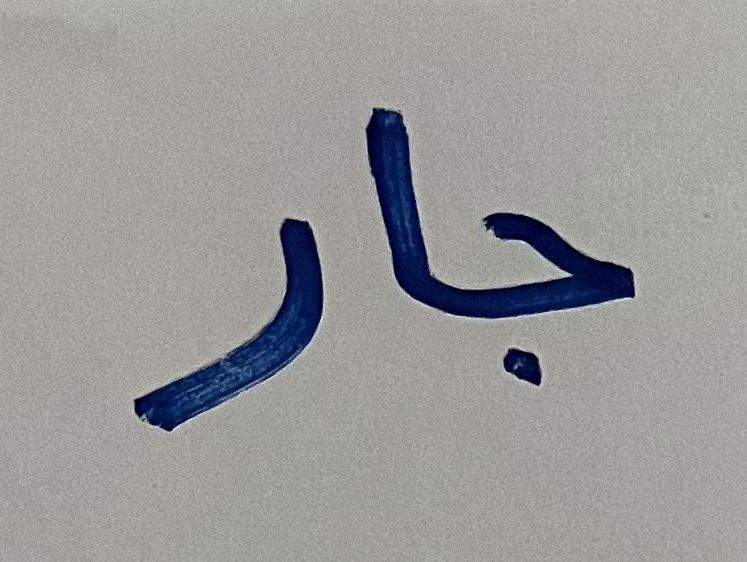alef: (344, 74, 440, 354)
jeem: (445, 170, 652, 407)
reh: (101, 187, 334, 463)
